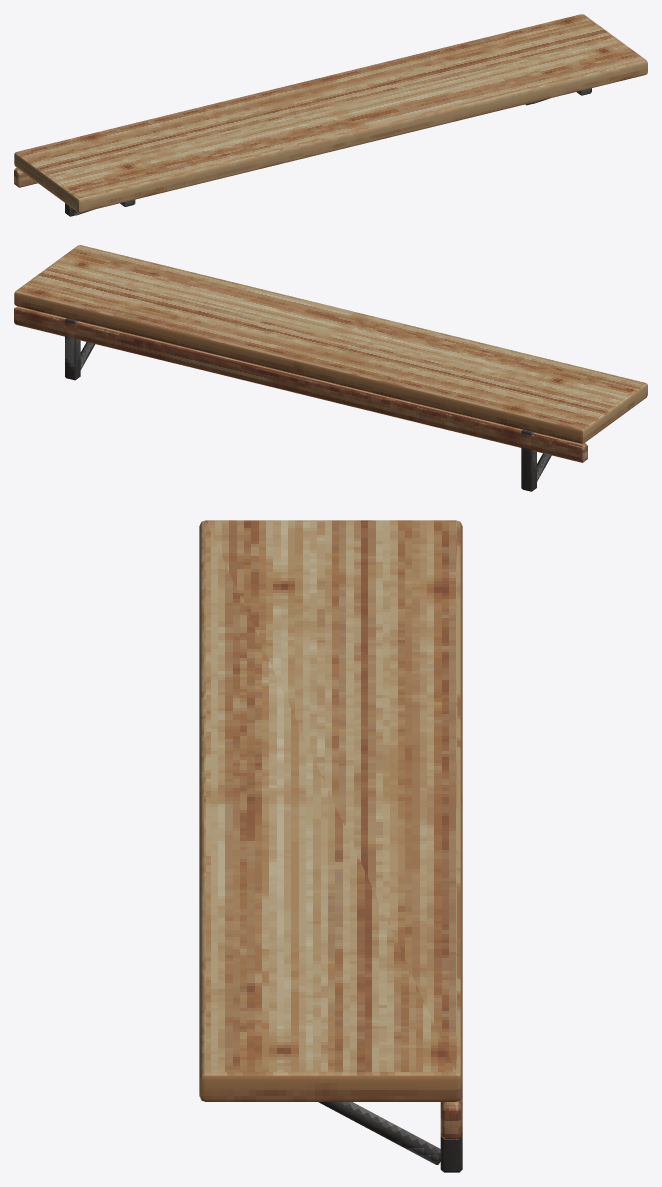
The model's file is shelf_wall.glb.
3 views of the same model, one above another, from view 1: azimuth 30°, elevation 25°; view 2: azimuth 150°, elevation 25°; view 3: azimuth 270°, elevation 25° (orthographic). The views are drawn at different scales.
Parts seen in each view (by area): view 1: mesh; view 2: mesh; view 3: mesh.
Boxes of the visible parts, left/top/right/bottom form: mesh: left=14, top=14, right=647, bottom=216; mesh: left=14, top=245, right=647, bottom=491; mesh: left=199, top=520, right=462, bottom=1172.
Size of the model in its own units: 1.2 by 0.15 by 0.2399.
Materials: 1 (1 with a texture image).
